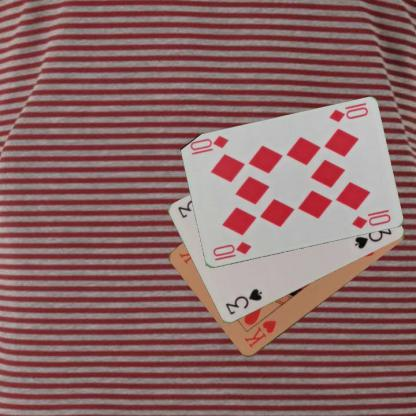10d: (210, 240, 252, 262), (326, 105, 370, 124)
3s: (223, 286, 264, 317)
Kh: (241, 318, 278, 350)
